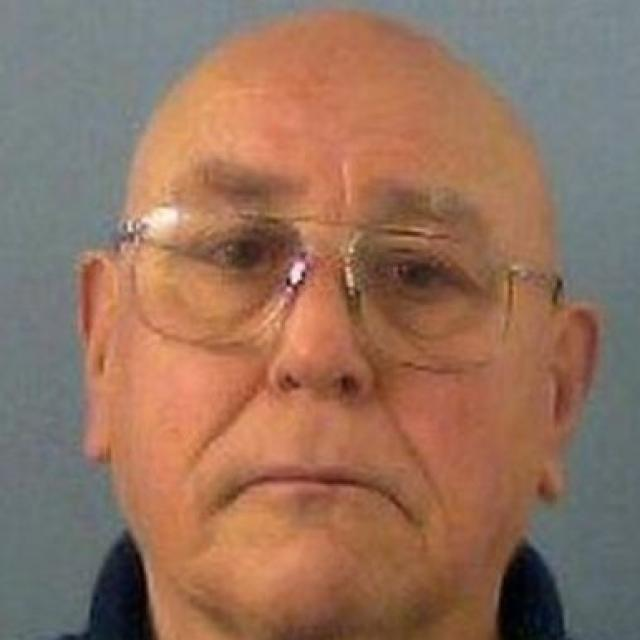Depress: (109, 20, 565, 638)
